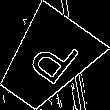P_SW: (15, 30, 79, 92)
